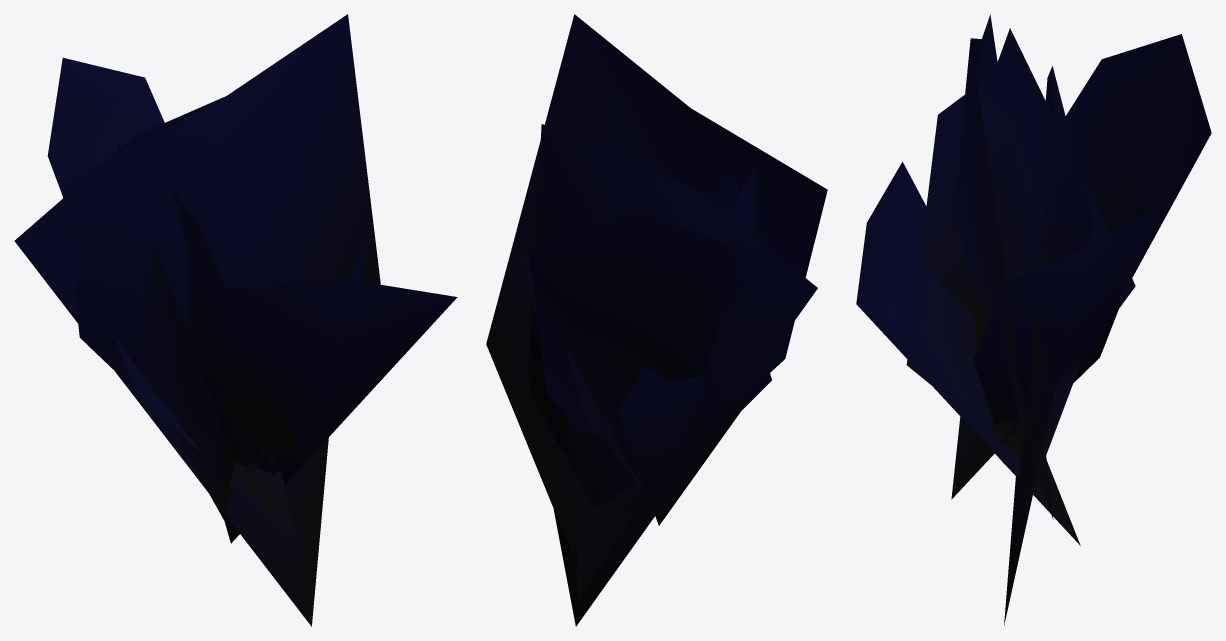
File: SM_Foliage_ReedShoreA_04.fbx
The picture shows the model from 3 angles, left to right: view 1: azimuth 30°, elevation 25°; view 2: azimuth 150°, elevation 25°; view 3: azimuth 270°, elevation 25°; orthographic projection. The views are drawn at different scales.
Parts seen in each view (by area): view 1: SM_Foliage_ReedShoreA_04; view 2: SM_Foliage_ReedShoreA_04; view 3: SM_Foliage_ReedShoreA_04.
Part boxes in pixels (<box>): SM_Foliage_ReedShoreA_04: <box>14,14,457,626</box>; SM_Foliage_ReedShoreA_04: <box>486,14,827,626</box>; SM_Foliage_ReedShoreA_04: <box>856,14,1211,625</box>.
Size of the model in its own units: 86.44 by 77.21 by 143.
